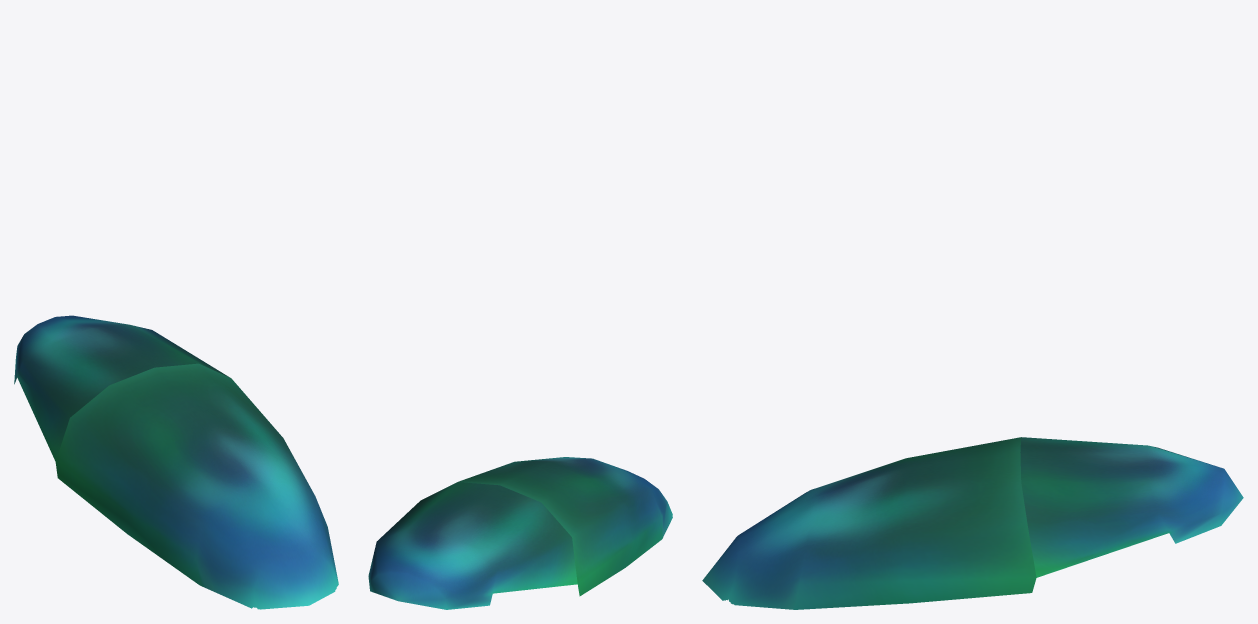
Rendered from s-11_glass.DAE.
The picture shows the model from 3 angles, left to right: view 1: azimuth 30°, elevation 25°; view 2: azimuth 150°, elevation 25°; view 3: azimuth 270°, elevation 25°; orthographic projection. The views are drawn at different scales.
Visible parts, largest first — view 1: Object01; view 2: Object01; view 3: Object01.
Boxes of the visible parts, x1=… form: Object01: x1=14, y1=315, x2=338, y2=609; Object01: x1=368, y1=457, x2=672, y2=609; Object01: x1=702, y1=437, x2=1243, y2=609.
Size of the model in its own units: 1.25 by 3.6 by 3.14.
